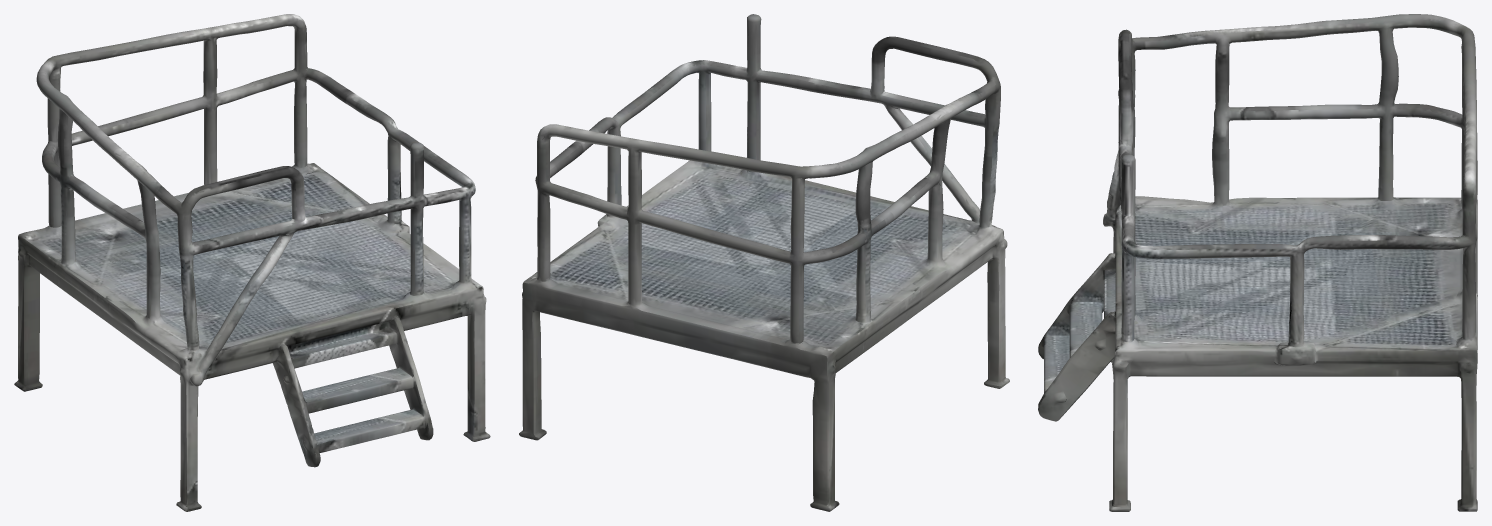
Rendered from splitting-platform.glb.
3 views of the same model, side by side, from view 1: azimuth 30°, elevation 25°; view 2: azimuth 150°, elevation 25°; view 3: azimuth 270°, elevation 25° (orthographic). The views are drawn at different scales.
Visible parts, largest first — view 1: cowninja-splitting-platform; view 2: cowninja-splitting-platform; view 3: cowninja-splitting-platform.
Boxes of the visible parts, <box> form: cowninja-splitting-platform: <box>14,14,490,511</box>; cowninja-splitting-platform: <box>519,14,1009,511</box>; cowninja-splitting-platform: <box>1038,14,1477,511</box>.
Size of the model in its own units: 1.99 by 2 by 2.32.
Materials: 1 (1 with a texture image).
